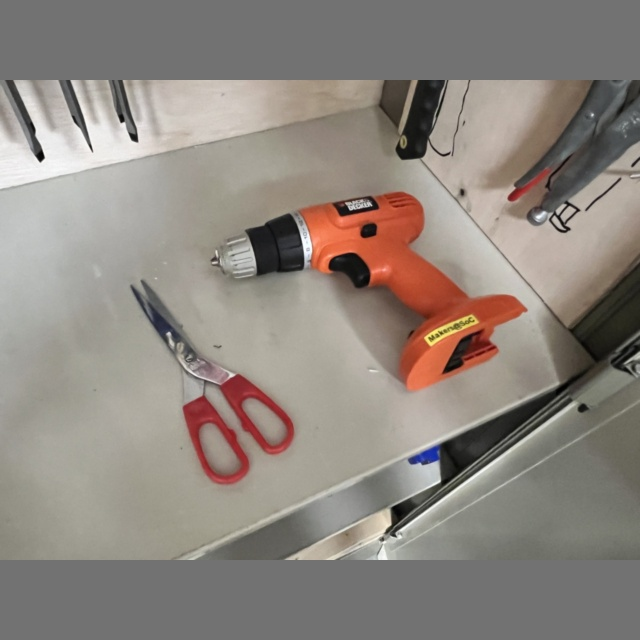drill: (212, 192, 526, 390)
scissor: (131, 280, 294, 484)
